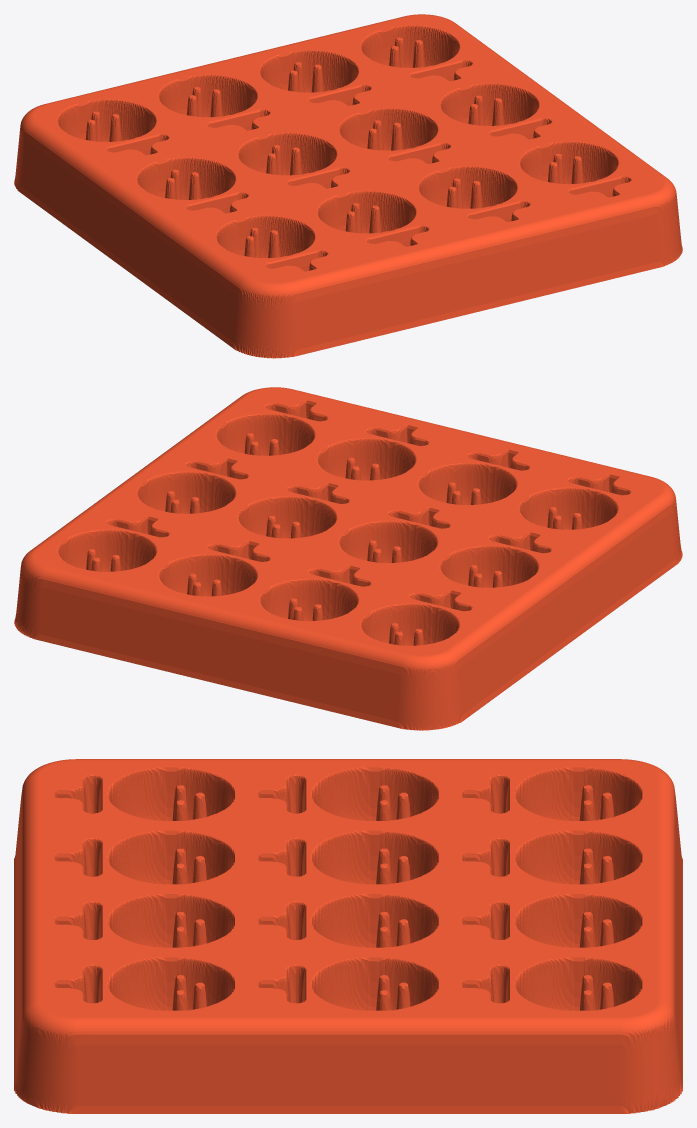
File: mold.glb
3 renders of one model, top to bottom at view 1: azimuth 30°, elevation 25°; view 2: azimuth 150°, elevation 25°; view 3: azimuth 270°, elevation 25°, orthographic. The views are drawn at different scales.
Visible parts, largest first — view 1: geometry_0; view 2: geometry_0; view 3: geometry_0.
Boxes of the visible parts, box(x1,y1,x2,y2) form: geometry_0: box(14, 14, 682, 358); geometry_0: box(14, 387, 682, 730); geometry_0: box(14, 759, 682, 1113).
Bounding box in the file's own units: 0.0947 × 0.0136 × 0.0963.
